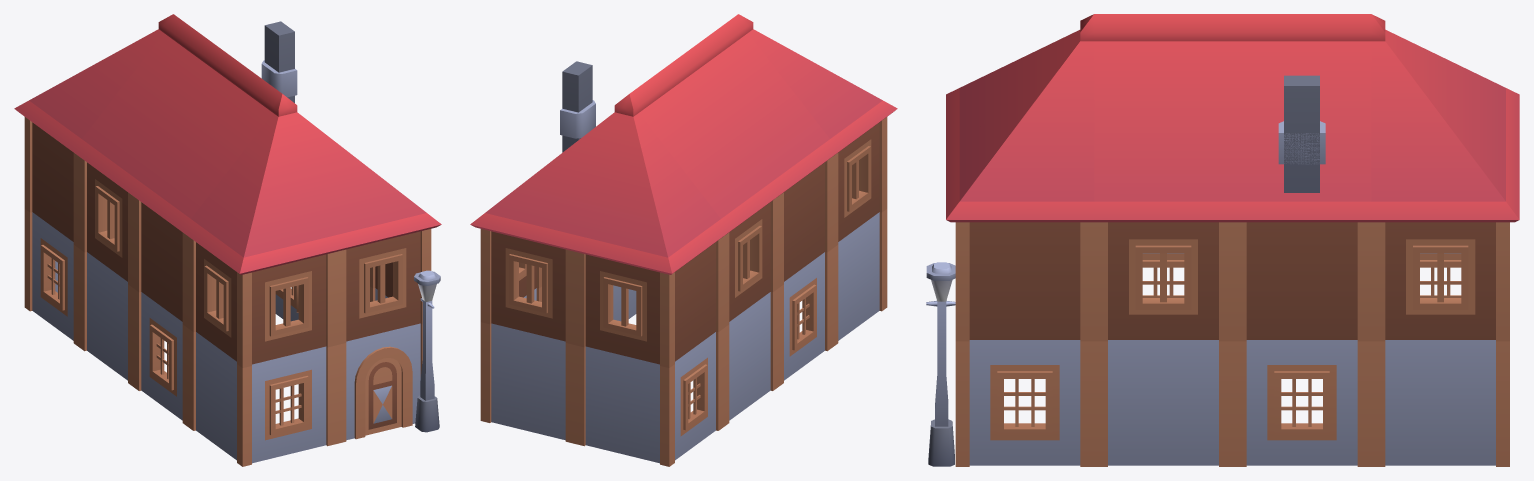
File: inn.glb
3 renders of one model, left to right at view 1: azimuth 30°, elevation 25°; view 2: azimuth 150°, elevation 25°; view 3: azimuth 270°, elevation 25°, orthographic. The views are drawn at different scales.
Visible parts, largest first — view 1: inn; view 2: inn; view 3: inn.
Part boxes in pixels (x1,y1,x2,y2): inn: (14, 14, 441, 466); inn: (470, 14, 897, 466); inn: (926, 14, 1519, 466).
Bounding box in the file's own units: 6.42 × 9.42 × 12.85.
Materials: 34 (34 with a texture image).
